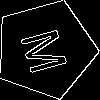M: (20, 24, 77, 77)
